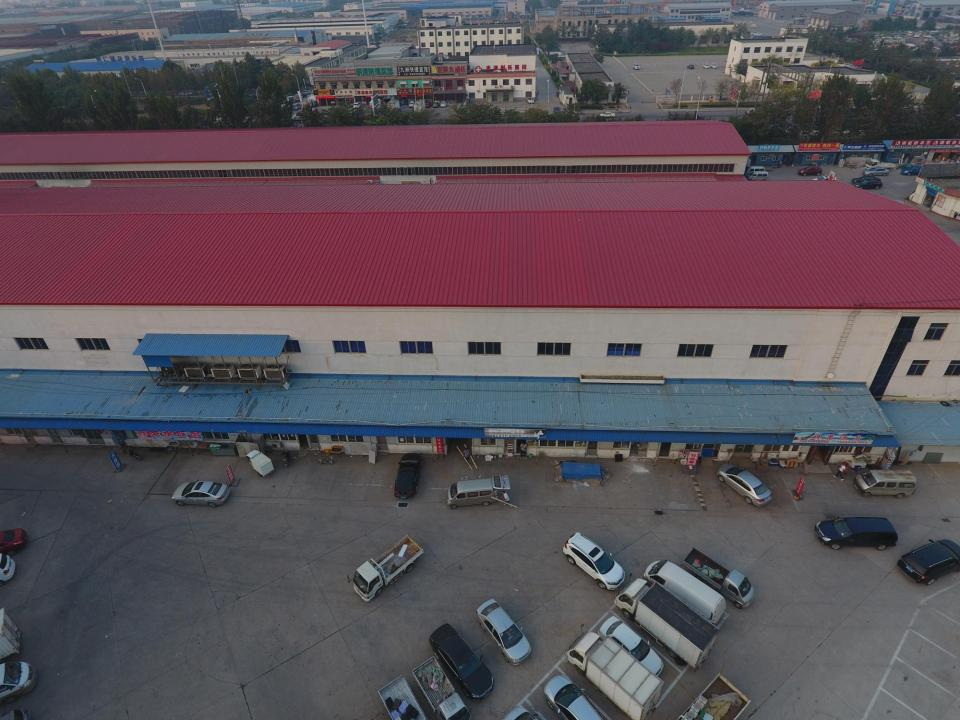car: (428, 623, 496, 698), (599, 615, 664, 676), (477, 598, 533, 666), (562, 533, 626, 590), (814, 518, 896, 550), (896, 540, 960, 580), (716, 464, 774, 507), (545, 674, 599, 720), (856, 469, 920, 498), (0, 658, 36, 705), (173, 480, 229, 507), (394, 453, 423, 499), (853, 175, 883, 189), (864, 164, 891, 176), (899, 165, 924, 177), (798, 164, 822, 176), (744, 164, 766, 174), (748, 169, 766, 180), (633, 63, 640, 69), (711, 63, 717, 69), (704, 63, 710, 69), (687, 64, 694, 69)
truck: (617, 579, 721, 669), (569, 632, 661, 720), (347, 535, 424, 603), (684, 547, 756, 609), (414, 653, 474, 718), (242, 447, 275, 477), (864, 157, 894, 170)
van: (644, 559, 724, 624), (447, 479, 505, 509)
